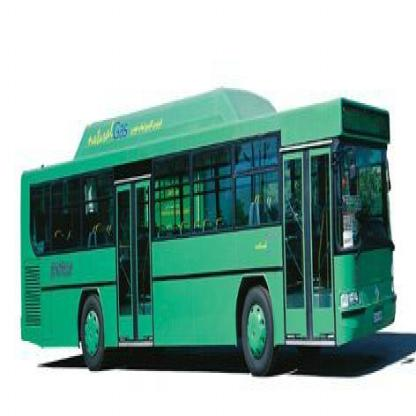Bus: (16, 75, 401, 373)
